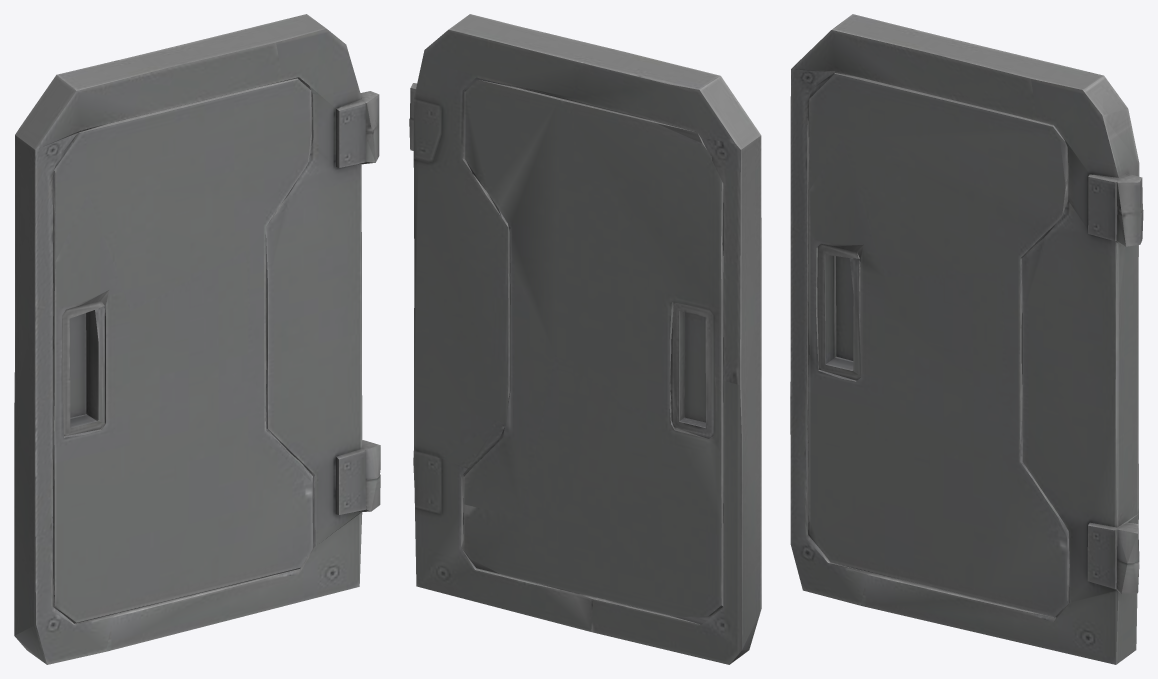
The model's file is shared_flak_tower_compact_option__entrance_door_leaf_lod1.glb.
3 views of the same model, side by side, from view 1: azimuth 30°, elevation 25°; view 2: azimuth 150°, elevation 25°; view 3: azimuth 330°, elevation 25° (orthographic).
Visible parts, largest first — view 1: mesh_node; view 2: mesh_node; view 3: mesh_node.
Boxes of the visible parts, left/top/right/bottom form: mesh_node: left=14, top=14, right=380, bottom=664; mesh_node: left=409, top=14, right=761, bottom=664; mesh_node: left=790, top=14, right=1143, bottom=664.
Bounding box in the file's own units: 1.4 × 2.19 × 0.1734.
1 material, 1 textured.
